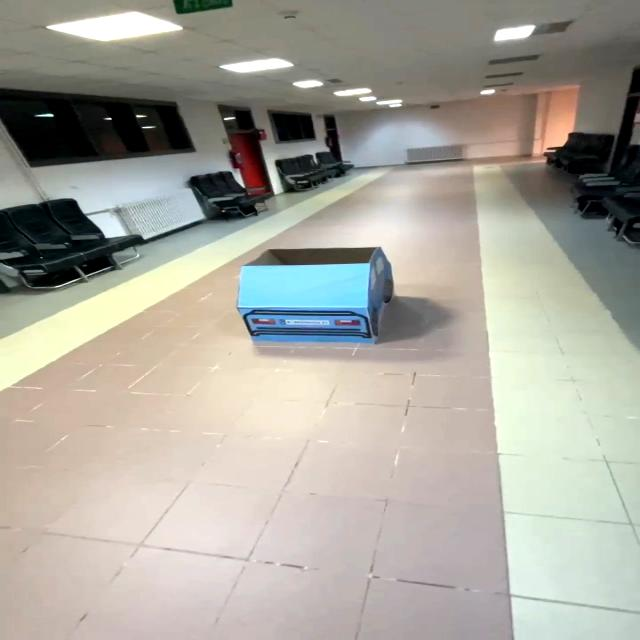blue_car: (205, 229, 416, 361)
